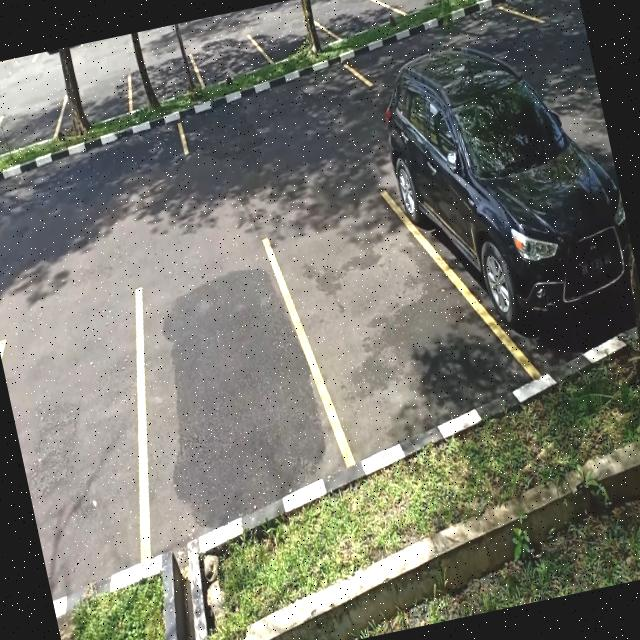empty: (118, 254, 338, 536), (278, 184, 489, 462), (0, 314, 173, 577), (0, 124, 195, 228), (174, 57, 376, 153), (56, 70, 140, 136), (0, 93, 73, 159), (124, 52, 204, 112), (191, 30, 268, 90), (254, 6, 328, 66), (318, 0, 390, 43), (377, 0, 448, 20)
occupied: (392, 89, 626, 377)
